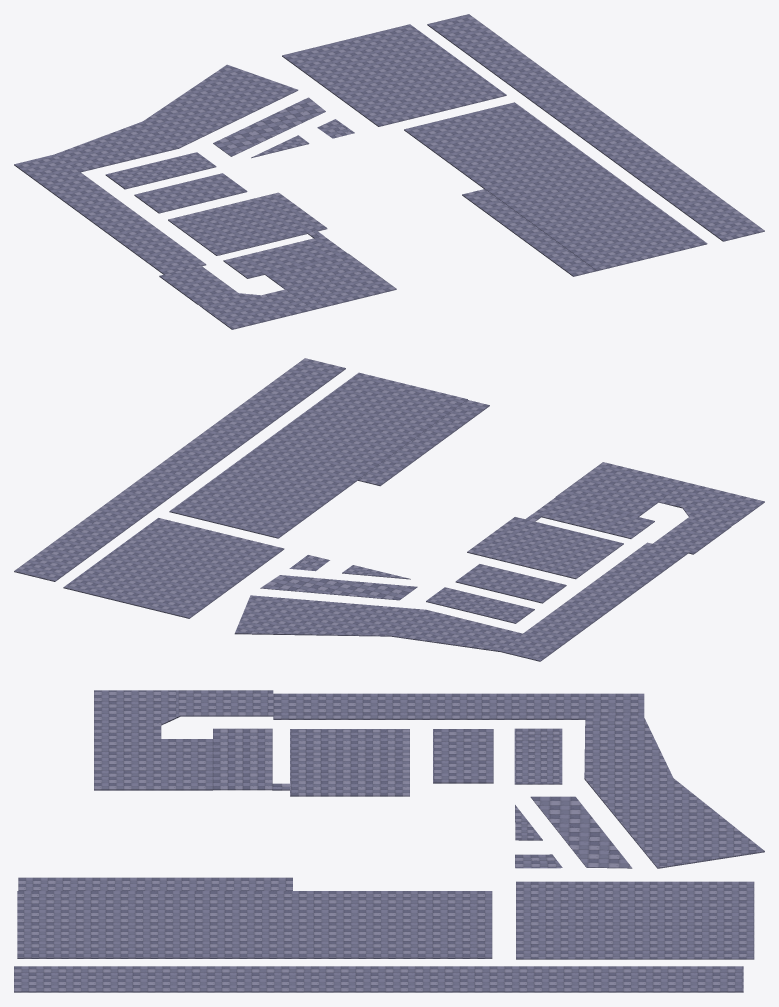
File: Pavements_Connected.fbx
The picture shows the model from 3 angles, top to bottom: view 1: azimuth 30°, elevation 25°; view 2: azimuth 150°, elevation 25°; view 3: azimuth 270°, elevation 25°; orthographic projection. The views are drawn at different scales.
Parts seen in each view (by area): view 1: Pavements_connected; view 2: Pavements_connected; view 3: Pavements_connected.
Part boxes in pixels (<box>): Pavements_connected: <box>14,14,764,329</box>; Pavements_connected: <box>14,358,764,661</box>; Pavements_connected: <box>14,690,764,992</box>.
Bounding box in the file's own units: 21558 × 52.83 × 22730.
